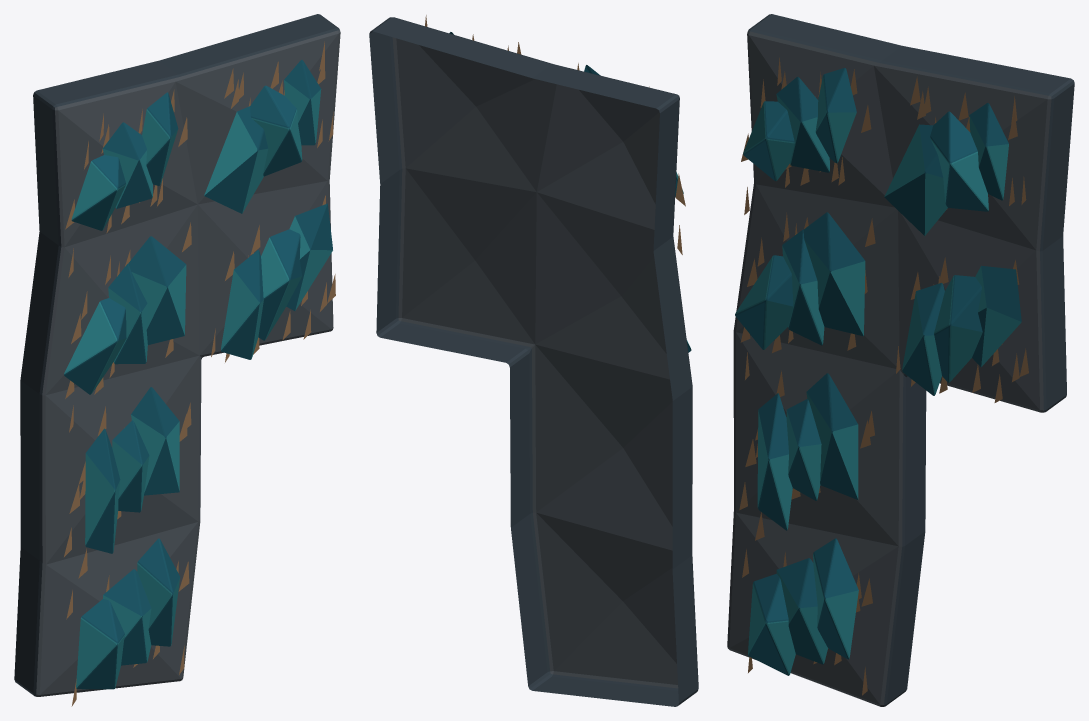
The model's file is Board_axe.fbx.
The picture shows the model from 3 angles, left to right: view 1: azimuth 30°, elevation 25°; view 2: azimuth 150°, elevation 25°; view 3: azimuth 330°, elevation 25°; orthographic projection. The views are drawn at different scales.
Visible parts, largest first — view 1: Art_axe_stone, Art_axe_mineral_2_2, Art_axe_mineral_1_0, Art_axe_mineral_4_2, Art_axe_mineral_4_0, Art_axe_mineral_5_0, Art_axe_mineral_2_0, Art_axe_mineral_3_0, Art_axe_mineral_3_1, Art_axe_mineral_5_2, Art_axe_mineral_1_1, Art_axe_mineral_5_1 (+7 smaller); view 2: Art_axe_stone; view 3: Art_axe_stone, Art_axe_mineral_2_2, Art_axe_mineral_4_2, Art_axe_mineral_1_0, Art_axe_mineral_5_2, Art_axe_mineral_4_0, Art_axe_mineral_3_1, Art_axe_mineral_1_1, Art_axe_mineral_5_0, Art_axe_mineral_2_0, Art_axe_mineral_3_2, Art_axe_mineral_5_1 (+7 smaller).
Boxes of the visible parts, <box> form: Art_axe_stone: <box>14,14,340,696</box>; Art_axe_mineral_2_2: <box>128,236,186,344</box>; Art_axe_mineral_1_0: <box>204,106,268,213</box>; Art_axe_mineral_4_2: <box>131,387,179,495</box>; Art_axe_mineral_4_0: <box>85,428,120,553</box>; Art_axe_mineral_5_0: <box>76,599,124,689</box>; Art_axe_mineral_2_0: <box>64,298,126,394</box>; Art_axe_mineral_3_0: <box>221,250,263,359</box>; Art_axe_mineral_3_1: <box>258,229,301,340</box>; Art_axe_mineral_5_2: <box>137,538,180,646</box>; Art_axe_mineral_1_1: <box>250,85,302,176</box>; Art_axe_mineral_5_1: <box>103,569,151,665</box>; Art_axe_stone: <box>369,17,698,706</box>; Art_axe_stone: <box>727,14,1074,706</box>; Art_axe_mineral_2_2: <box>803,212,865,336</box>; Art_axe_mineral_4_2: <box>806,373,858,499</box>; Art_axe_mineral_1_0: <box>884,124,947,235</box>; Art_axe_mineral_5_2: <box>813,538,858,659</box>; Art_axe_mineral_4_0: <box>757,393,792,530</box>; Art_axe_mineral_3_1: <box>934,275,982,382</box>; Art_axe_mineral_1_1: <box>930,111,988,211</box>; Art_axe_mineral_5_0: <box>748,574,795,675</box>; Art_axe_mineral_2_0: <box>735,255,793,349</box>; Art_axe_mineral_3_2: <box>972,265,1021,367</box>; Art_axe_mineral_5_1: <box>776,558,827,664</box>.
Bounding box in the file's own units: 212 × 406 × 51.65.
